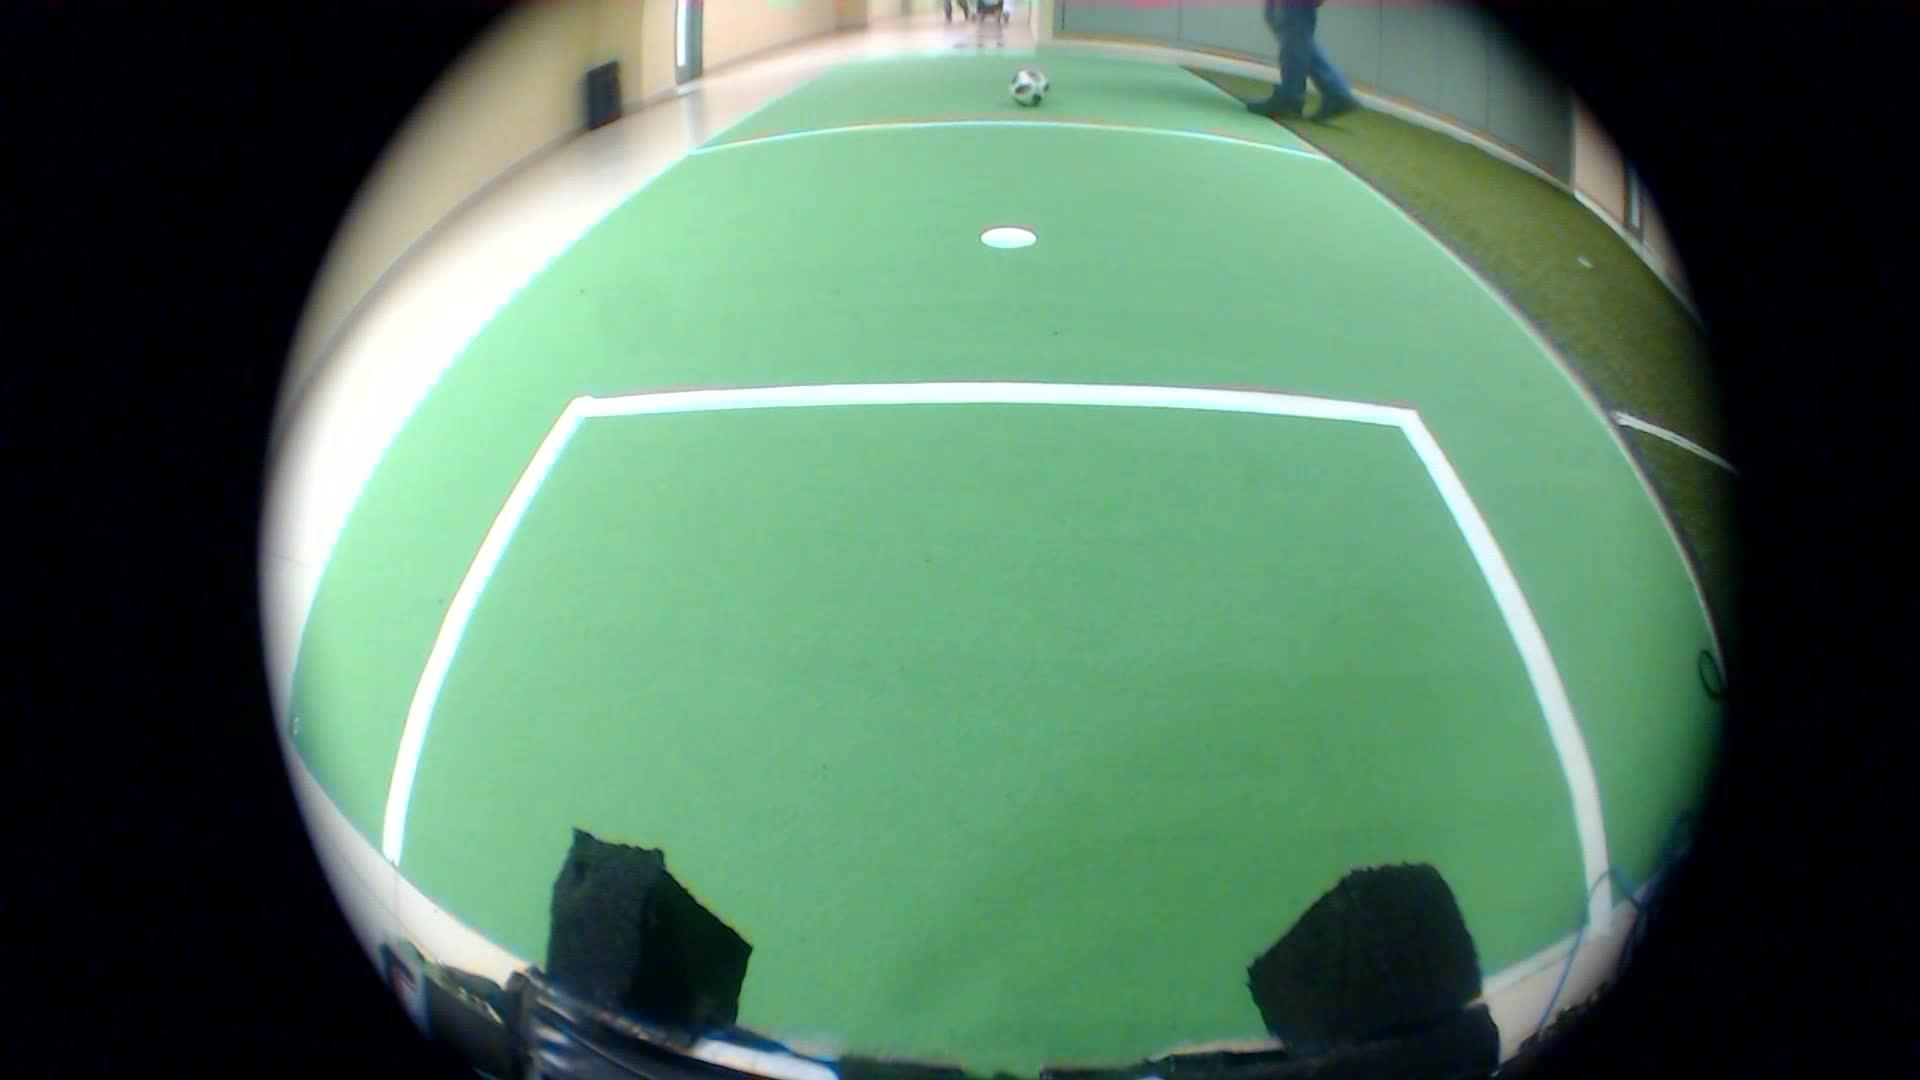ball: (1000, 51, 1048, 113)
